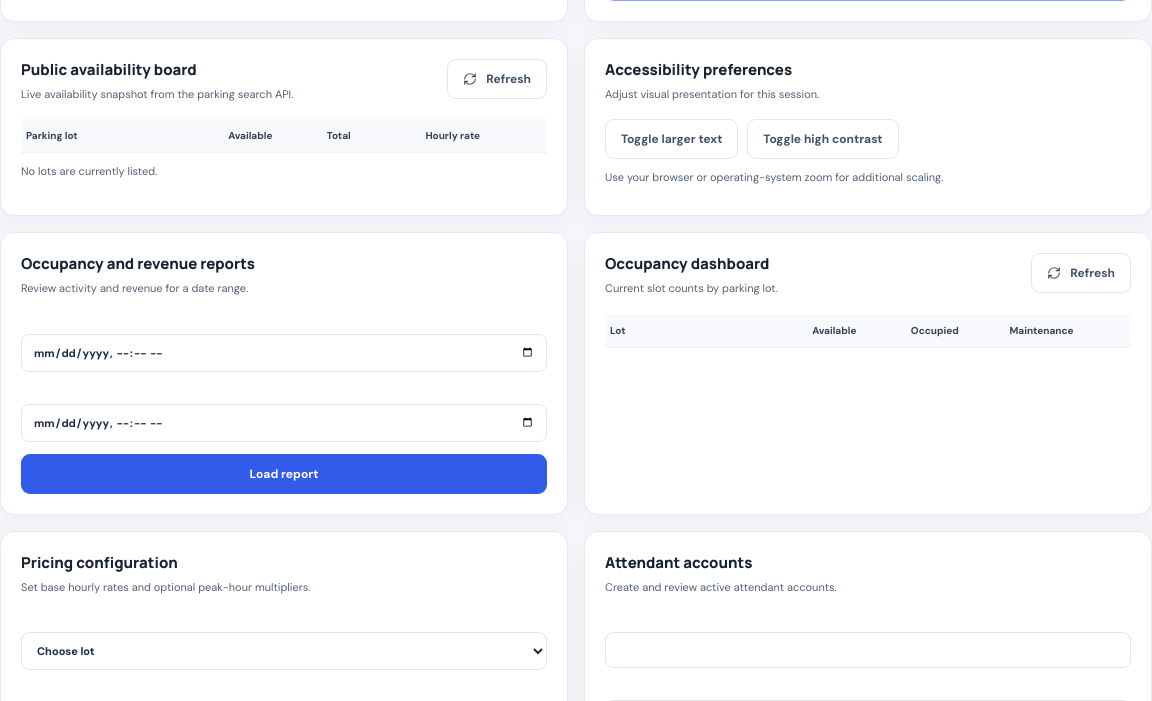
Test: only shows reports to admins and loads the report data
(page scrolled)
Type "2026-01-01T10:00" into the field labelled "From". click: coordinates (284, 352)
box: x1=21 y1=334 x2=547 y2=372
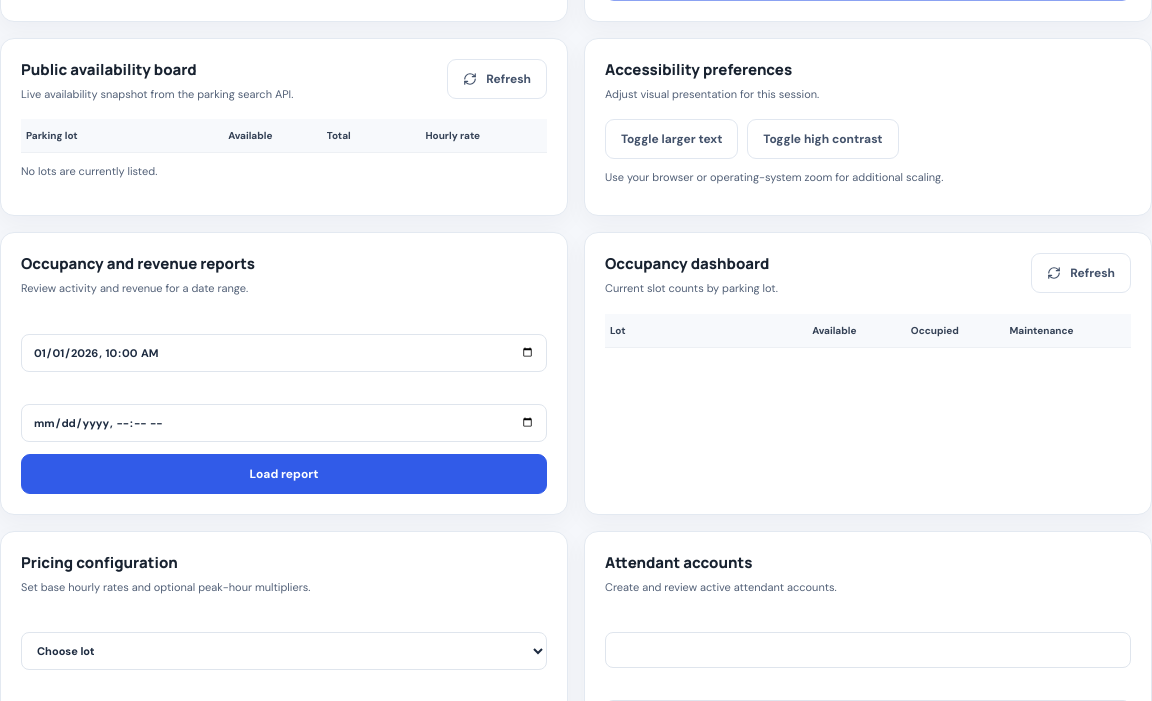
Type "2026-01-02T10:00" into the field labelled "To". click: coordinates (284, 422)
box: x1=21 y1=404 x2=547 y2=442
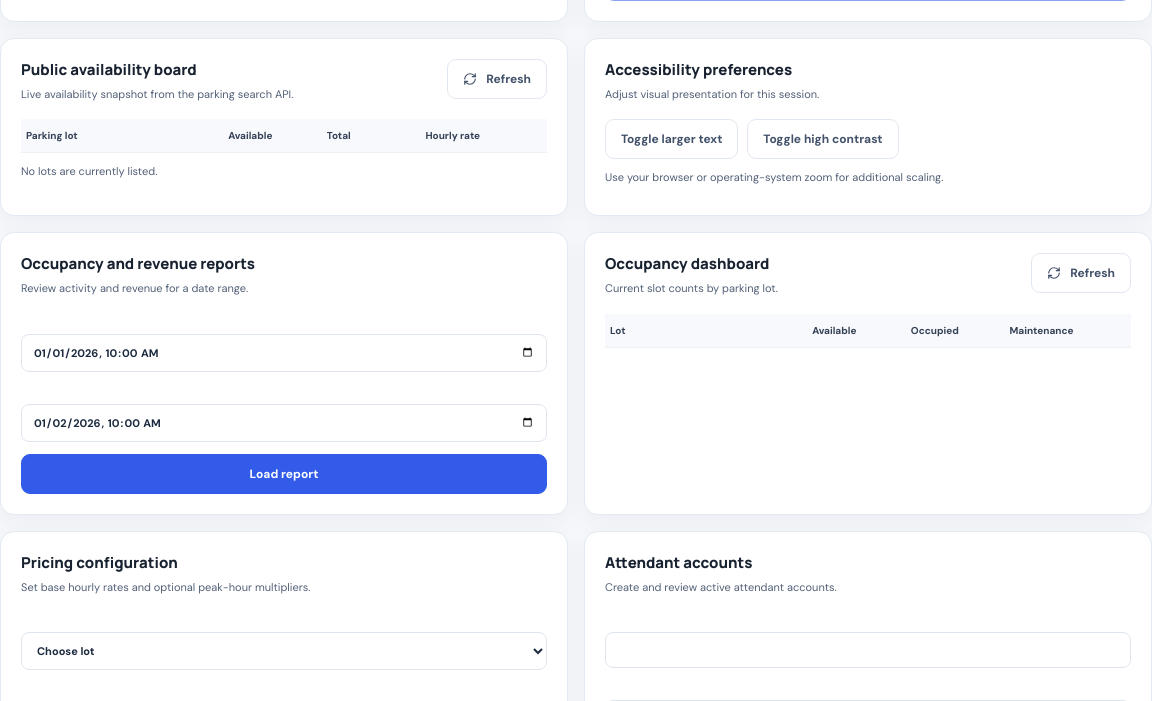
Click the button "Load report". click: coordinates (284, 474)
box: x1=21 y1=454 x2=547 y2=494
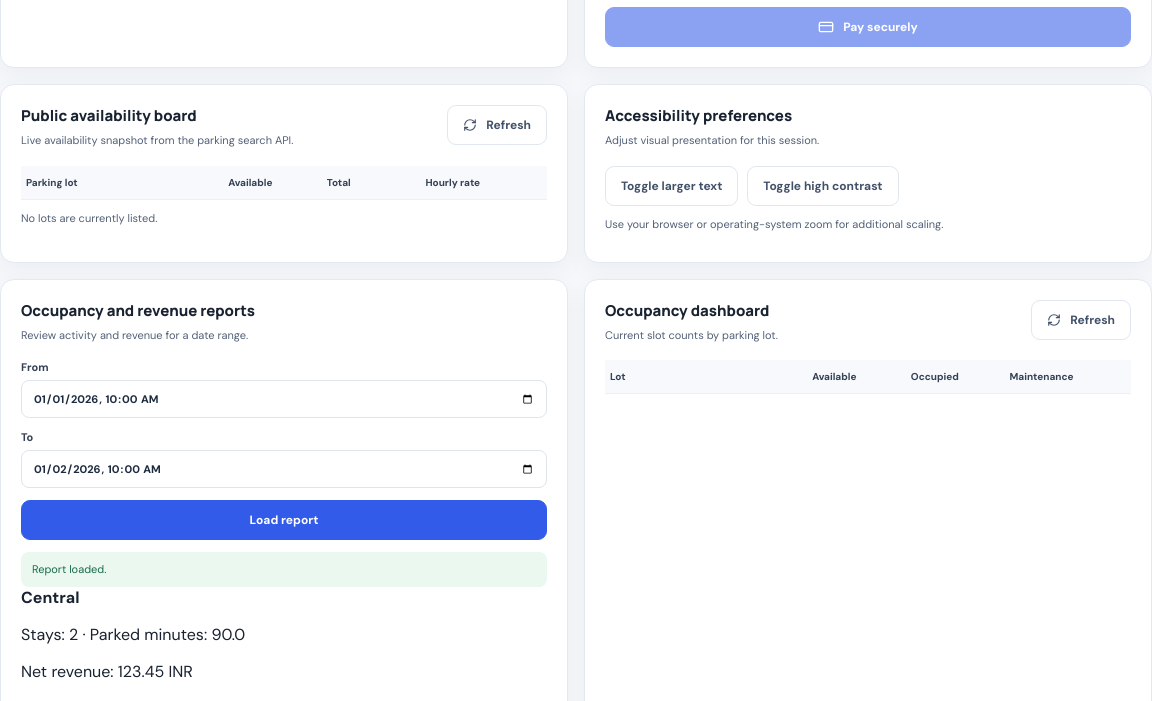
Check: the text "Net revenue: 123.45 INR" is shown, box x1=21 y1=660 x2=193 y2=682
